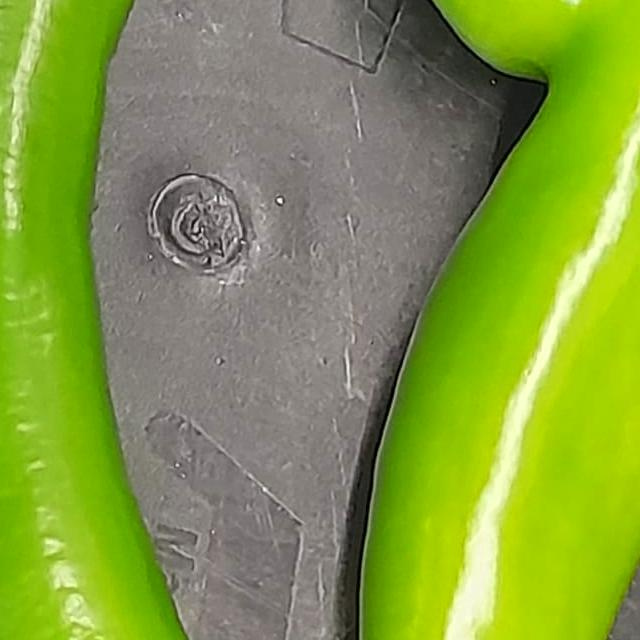chili_pepper: (0, 0, 600, 640), (286, 0, 640, 640)
